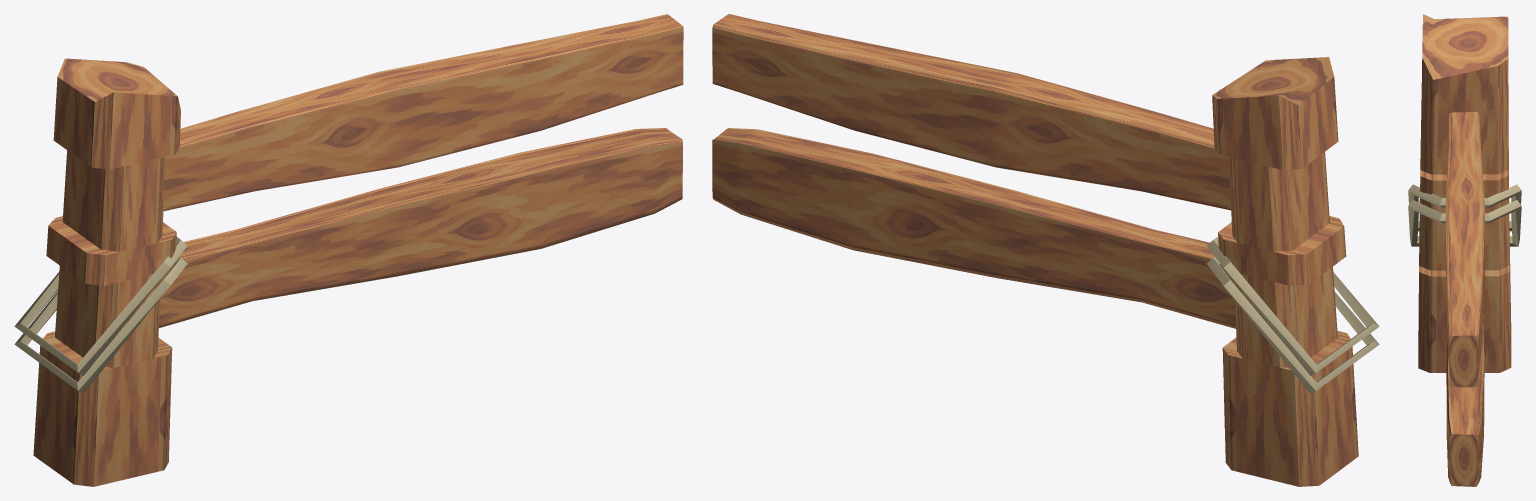
File: fence_w_200_c.glb
The picture shows the model from 3 angles, left to right: view 1: azimuth 30°, elevation 25°; view 2: azimuth 150°, elevation 25°; view 3: azimuth 270°, elevation 25°; orthographic projection. The views are drawn at different scales.
Visible parts, largest first — view 1: fence_w_200_c; view 2: fence_w_200_c; view 3: fence_w_200_c.
Boxes of the visible parts, x1,y1,x2,y2 form: fence_w_200_c: (14, 14, 683, 486); fence_w_200_c: (712, 14, 1379, 486); fence_w_200_c: (1408, 14, 1521, 486).
Size of the model in its own units: 2.2 by 1.29 by 0.3989.
Materials: 1 (1 with a texture image).
